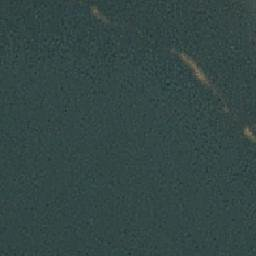debris: (197, 64, 210, 91), (179, 52, 194, 72), (243, 123, 254, 142), (90, 6, 104, 20)
